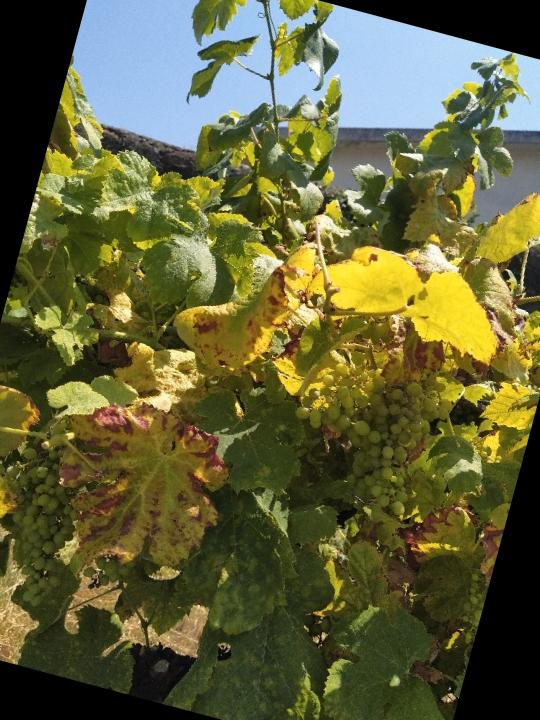grape: (275, 342, 446, 521), (0, 436, 97, 614)
